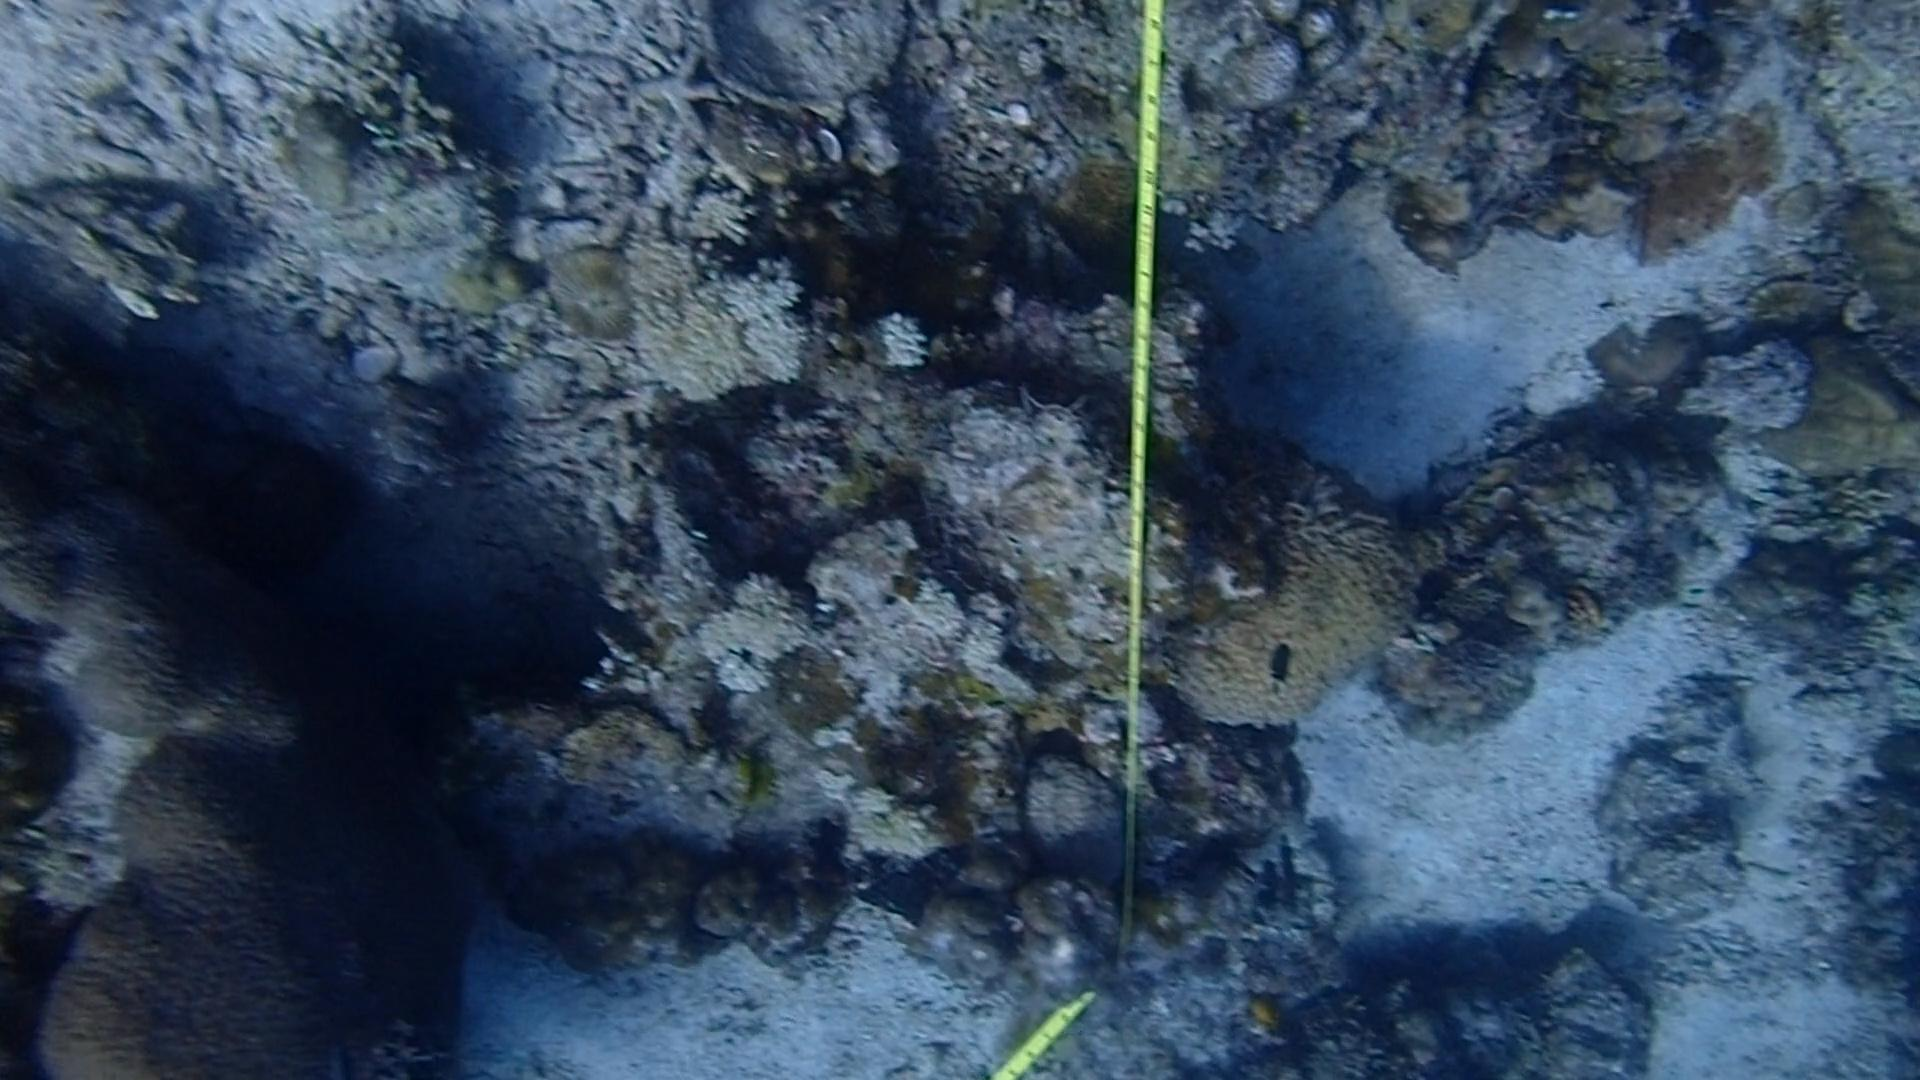Dark Fish: (1265, 750, 1320, 823), (1400, 547, 1452, 625), (1255, 625, 1305, 699), (1236, 858, 1286, 930), (1265, 843, 1311, 914)
